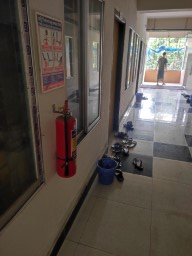fire_extinguisher: (75, 152, 134, 186)
